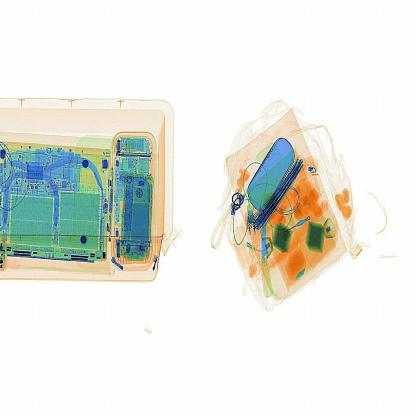wrench: (256, 197, 275, 298)
